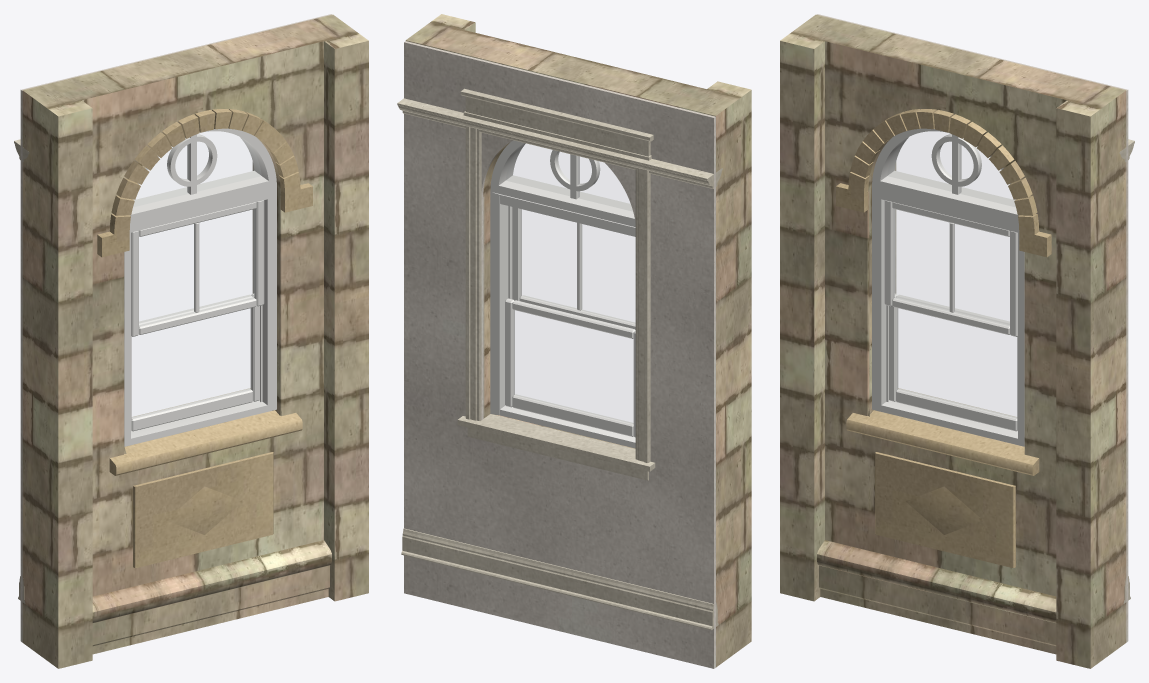
File: f_u1_window.glb
3 renders of one model, left to right at view 1: azimuth 30°, elevation 25°; view 2: azimuth 150°, elevation 25°; view 3: azimuth 330°, elevation 25°, orthographic.
Visible parts, largest first — view 1: f_u1_window_terra, f_u1_window_terra2, f_u1_window_glass, f_u1_window_frame, folha_glass, f_u1_window_sash, folha_sash, f_u1_window_plaster, molduras; view 2: f_u1_window_plaster, molduras, f_u1_window_terra, f_u1_window_glass, f_u1_window_frame, folha_glass, folha_sash, f_u1_window_sash; view 3: f_u1_window_terra, f_u1_window_terra2, f_u1_window_glass, f_u1_window_frame, folha_glass, f_u1_window_sash, folha_sash, f_u1_window_plaster, molduras.
Part boxes in pixels (bbox=[...]): f_u1_window_terra: bbox=[22, 14, 368, 668]; f_u1_window_terra2: bbox=[97, 109, 312, 567]; f_u1_window_glass: bbox=[134, 132, 260, 325]; f_u1_window_frame: bbox=[124, 128, 276, 446]; folha_glass: bbox=[132, 308, 251, 417]; f_u1_window_sash: bbox=[131, 200, 264, 336]; folha_sash: bbox=[131, 293, 259, 431]; f_u1_window_plaster: bbox=[20, 14, 331, 642]; molduras: bbox=[14, 139, 253, 603]; f_u1_window_plaster: bbox=[404, 41, 715, 668]; molduras: bbox=[397, 88, 722, 630]; f_u1_window_terra: bbox=[405, 14, 751, 667]; f_u1_window_glass: bbox=[506, 144, 634, 322]; f_u1_window_frame: bbox=[490, 140, 635, 448]; folha_glass: bbox=[514, 311, 632, 423]; folha_sash: bbox=[505, 298, 635, 437]; f_u1_window_sash: bbox=[512, 207, 635, 329]; f_u1_window_terra: bbox=[780, 14, 1126, 668]; f_u1_window_terra2: bbox=[836, 109, 1051, 567]; f_u1_window_glass: bbox=[888, 132, 1014, 325]; f_u1_window_frame: bbox=[872, 128, 1024, 446]; folha_glass: bbox=[897, 308, 1016, 417]; f_u1_window_sash: bbox=[884, 200, 1017, 336]; folha_sash: bbox=[889, 293, 1017, 431]; f_u1_window_plaster: bbox=[817, 14, 1128, 642]; molduras: bbox=[895, 139, 1134, 603].
Bounding box in the file's own units: 2 × 3.4 × 0.495.
8 materials, 5 textured.
